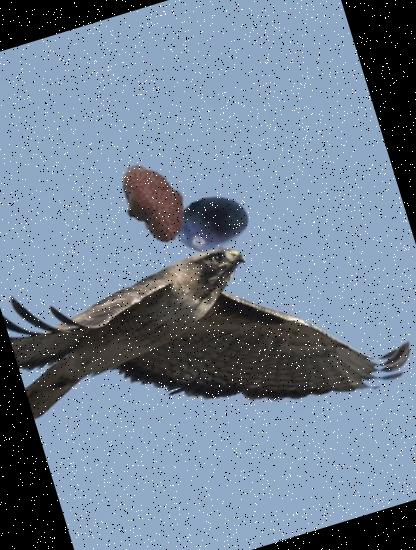Plum: (164, 176, 260, 271)
Strawberry: (100, 148, 206, 256)
